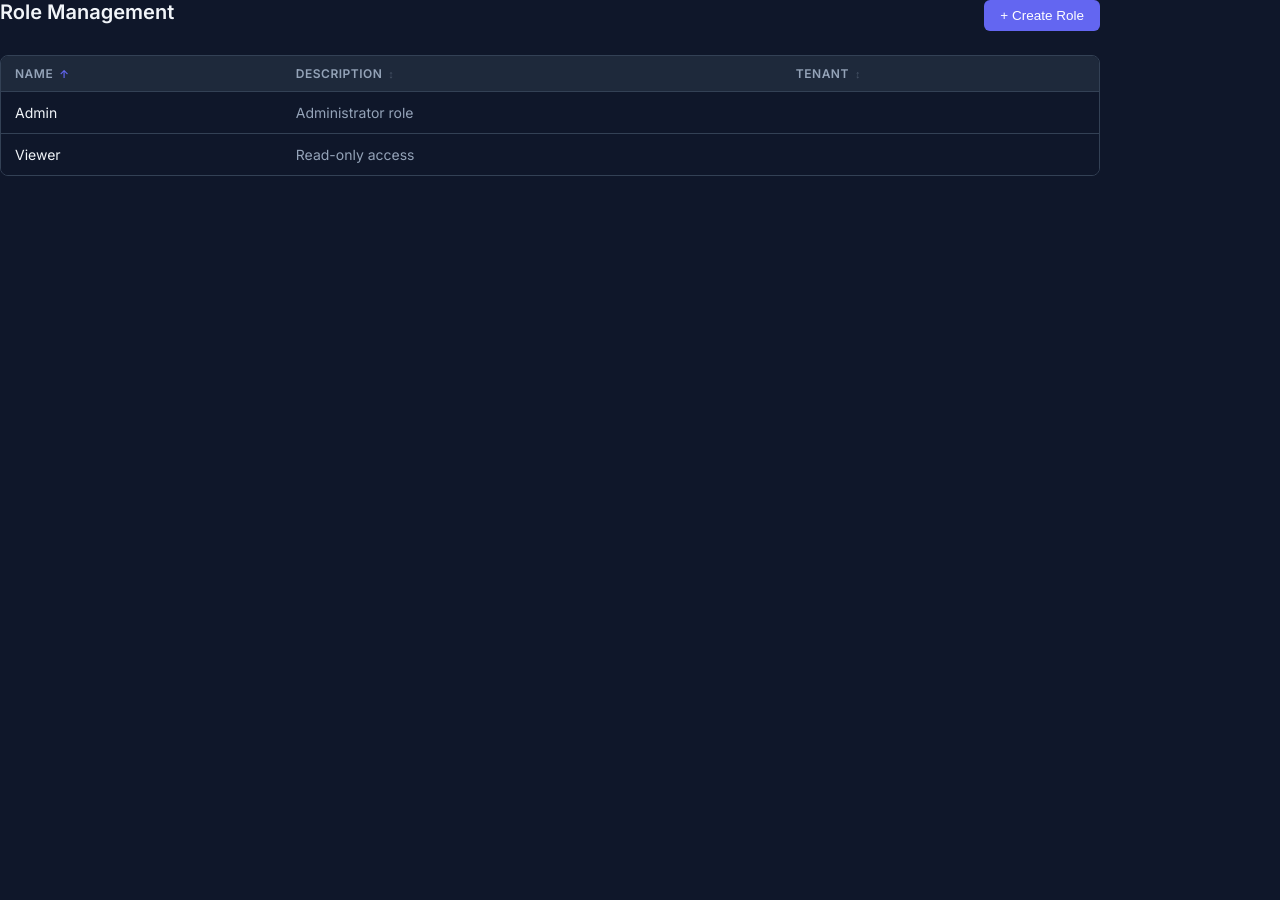
Test: RoleManagementPage › opens Create Role modal when button clicked
Expected: the text "Admin" is shown, [1,92,282,134]
Click the button "+ Create Role": (1042, 16) [984,0,1100,31]
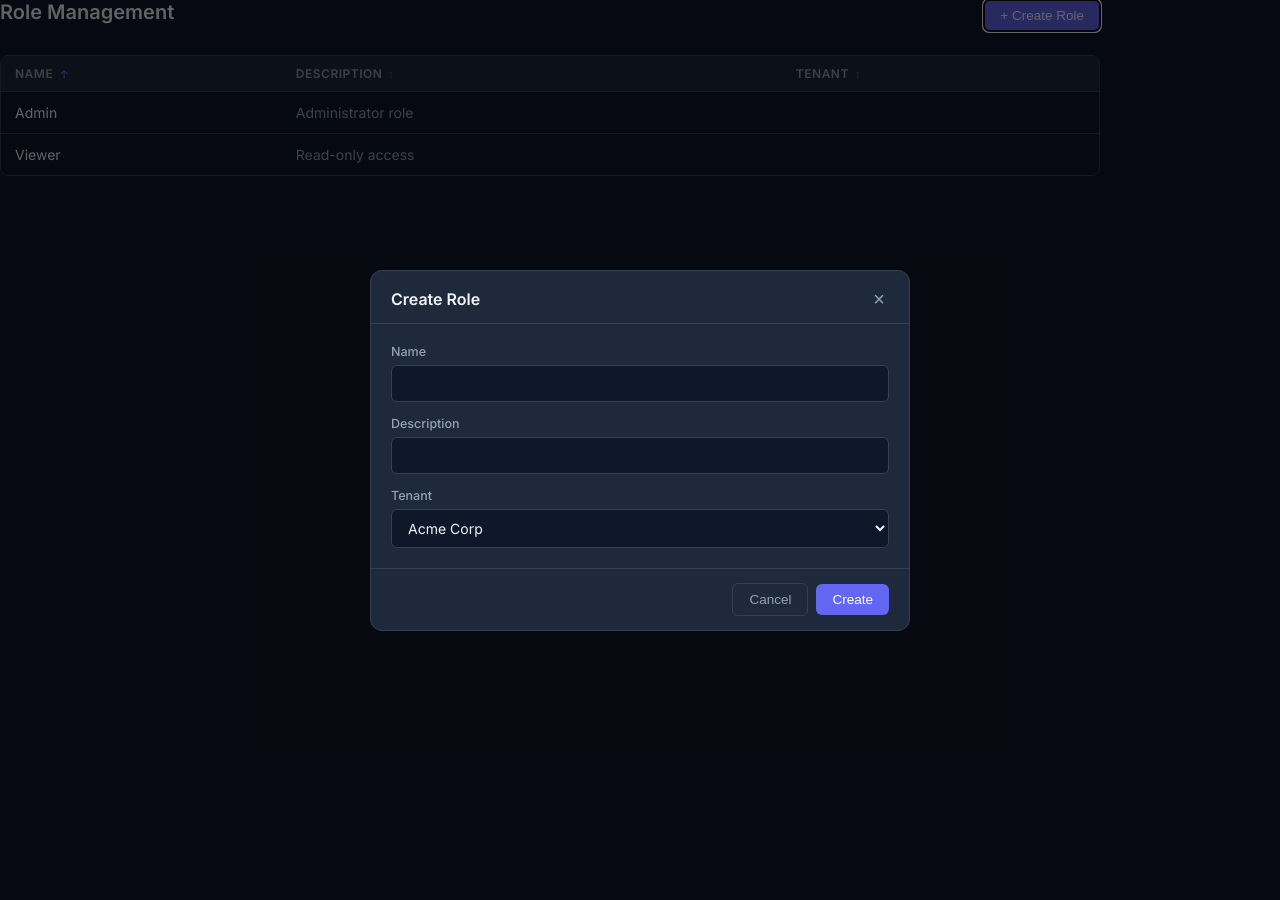
Expected: the heading "Create Role" is shown, [391,288,480,308]
